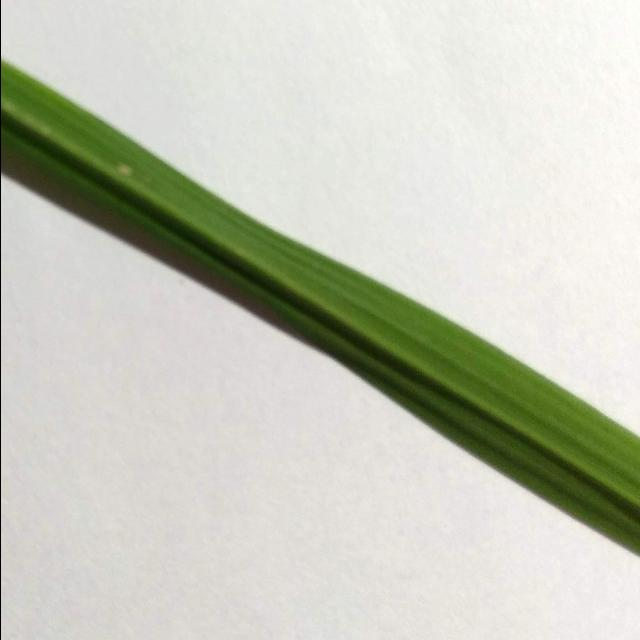healthy: (0, 47, 640, 640)
